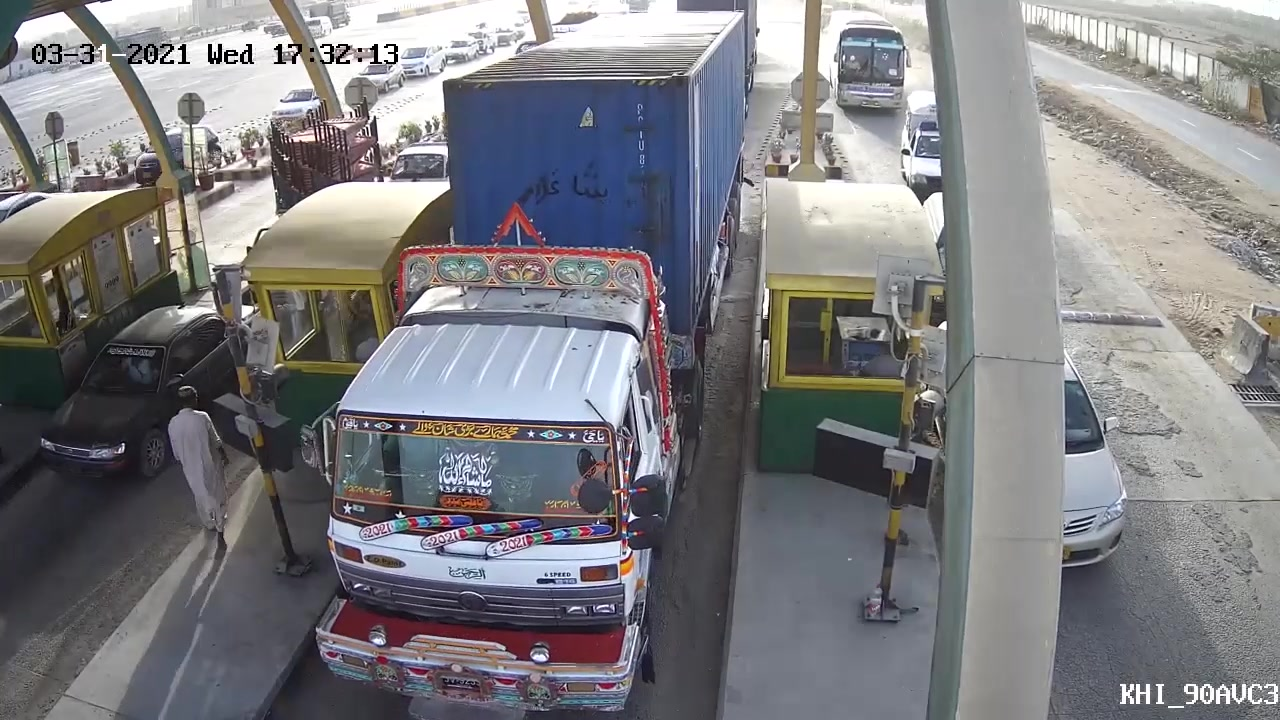F6: (312, 1, 763, 715)
